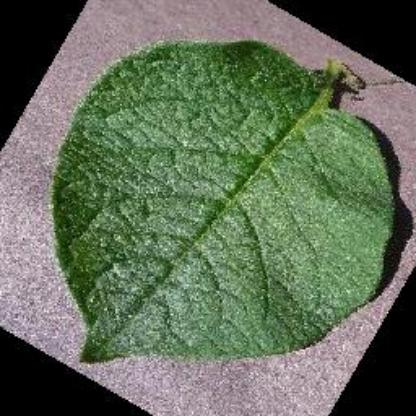Healthy-plant: (47, 20, 405, 366)
